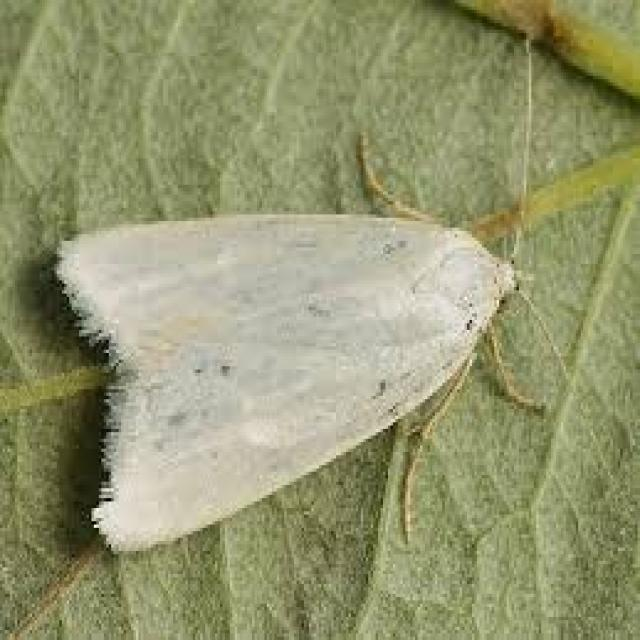yellow-stem-borer: (28, 128, 562, 568)
